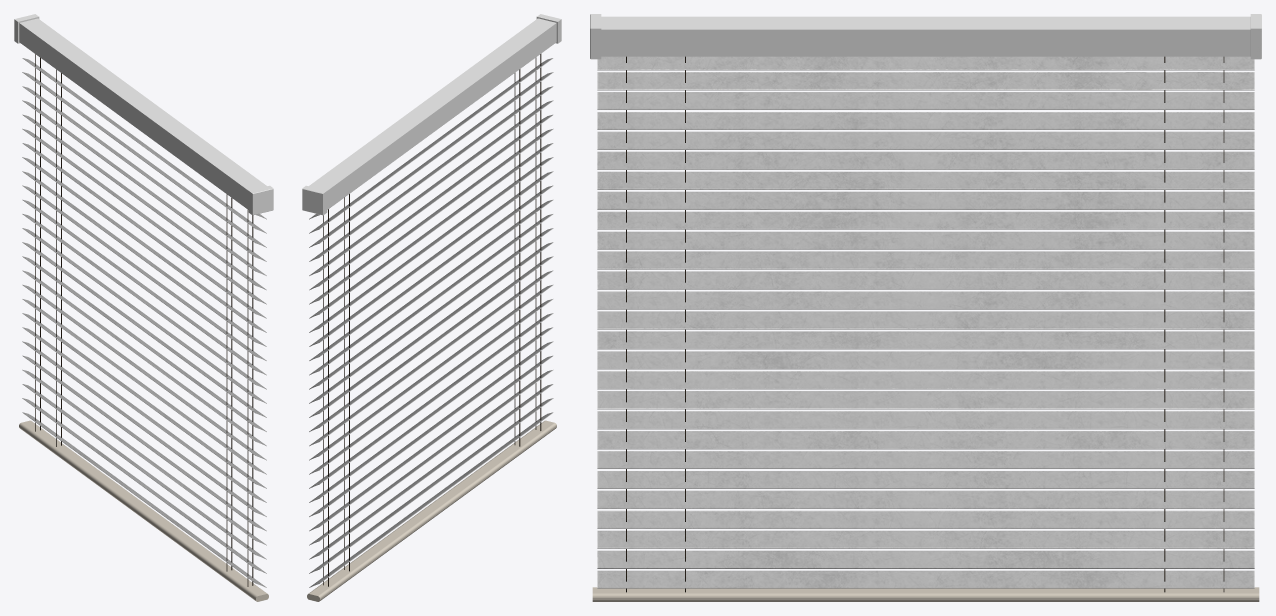
The model's file is blinds.glb.
3 renders of one model, left to right at view 1: azimuth 30°, elevation 25°; view 2: azimuth 150°, elevation 25°; view 3: azimuth 270°, elevation 25°, orthographic. The views are drawn at different scales.
Visible parts, largest first — view 1: defaultMaterial; view 2: defaultMaterial; view 3: defaultMaterial.
Part boxes in pixels (x1=…): defaultMaterial: x1=14, y1=14, x2=273, y2=601; defaultMaterial: x1=302, y1=14, x2=561, y2=601; defaultMaterial: x1=590, y1=14, x2=1261, y2=601.
Size of the model in its own units: 10.7 by 198 by 209.
1 material, 1 textured.
